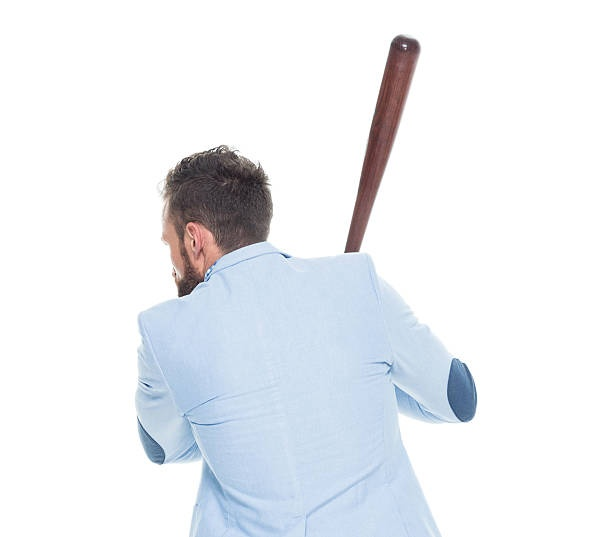bita: (333, 27, 427, 255)
